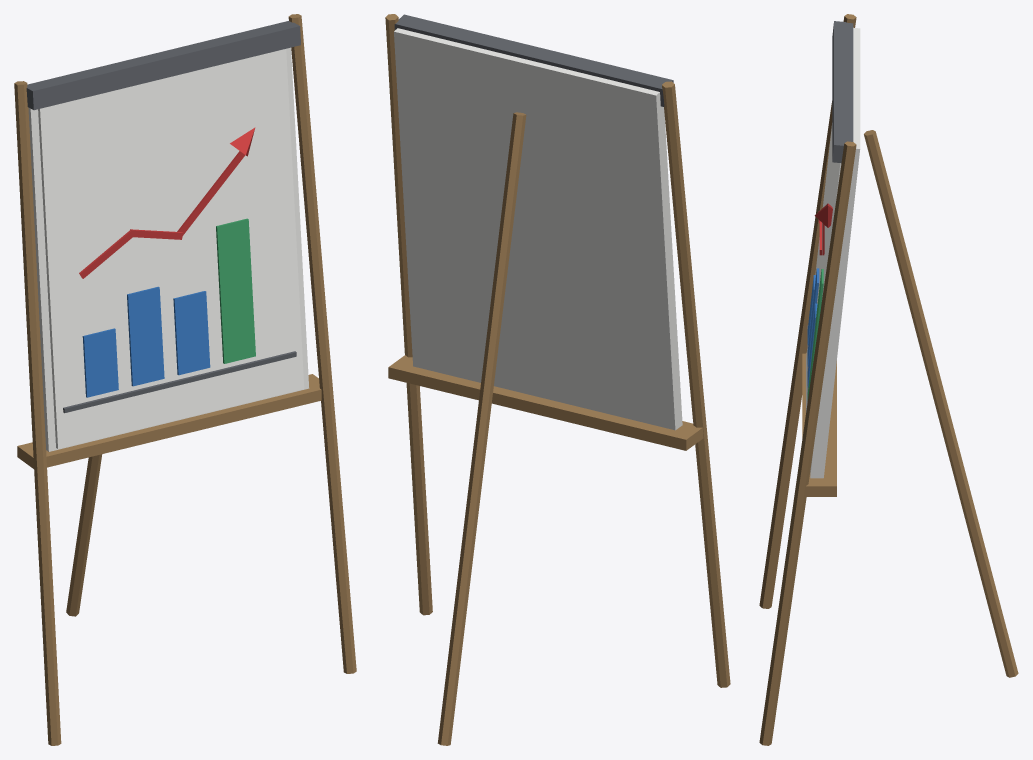
The model's file is flip_chart.glb.
3 views of the same model, side by side, from view 1: azimuth 30°, elevation 25°; view 2: azimuth 150°, elevation 25°; view 3: azimuth 270°, elevation 25° (orthographic). The views are drawn at different scales.
Parts seen in each view (by area): view 1: flip_chart; view 2: flip_chart; view 3: flip_chart.
Part boxes in pixels (<box>): flip_chart: <box>14,14,356,745</box>; flip_chart: <box>385,14,730,745</box>; flip_chart: <box>759,14,1018,745</box>.
Bounding box in the file's own units: 0.8677 × 1.71 × 0.6714.
